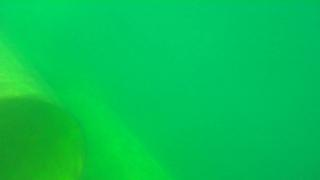pipe: (1, 31, 89, 179), (54, 72, 173, 179)
